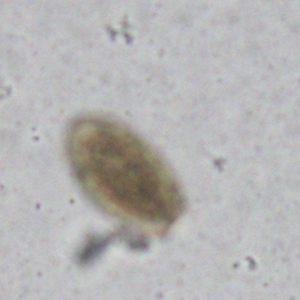Fasciola_hepatica_egg: (68, 113, 190, 241)
